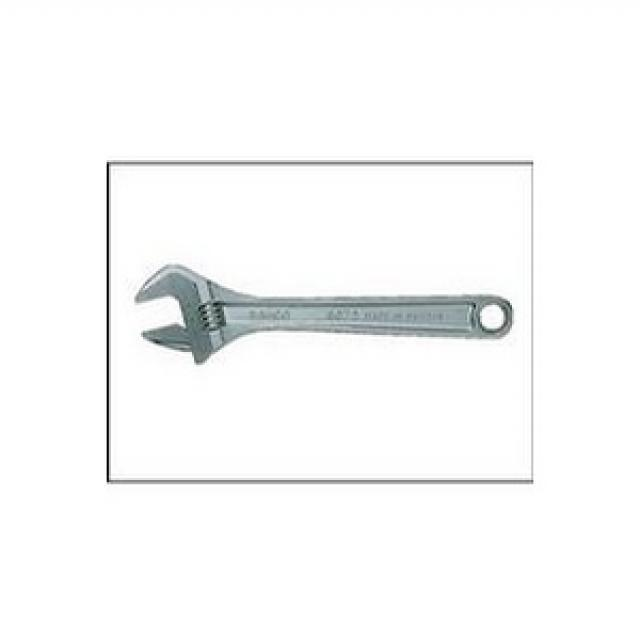wrench: (127, 250, 518, 372)
